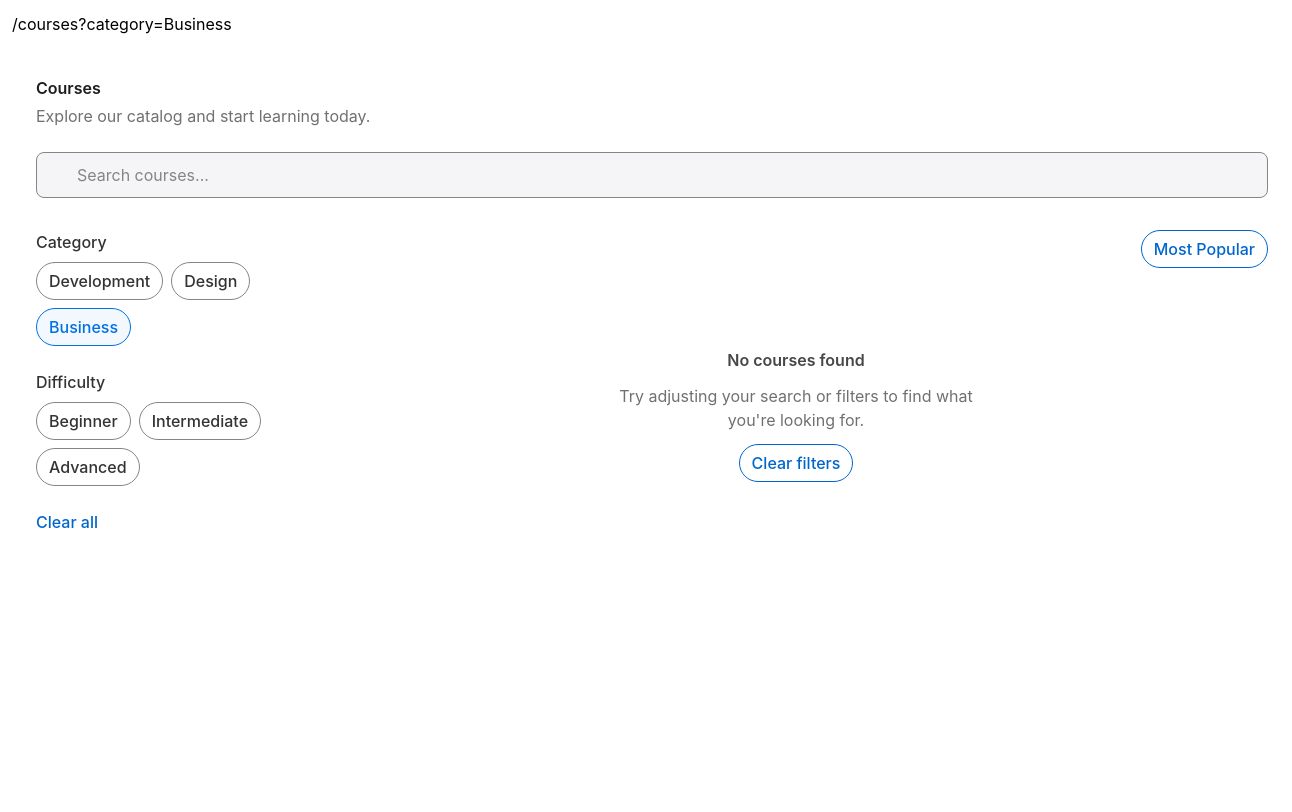
it: courses integration › shows EmptyState for a filter combo and Clear filters resets the URL + results
The image size is (1292, 812).
expect the heading "No courses found" is shown: met, box [727, 348, 865, 372]
Click the button "Clear filters".
click(796, 463)  # box [739, 444, 853, 482]
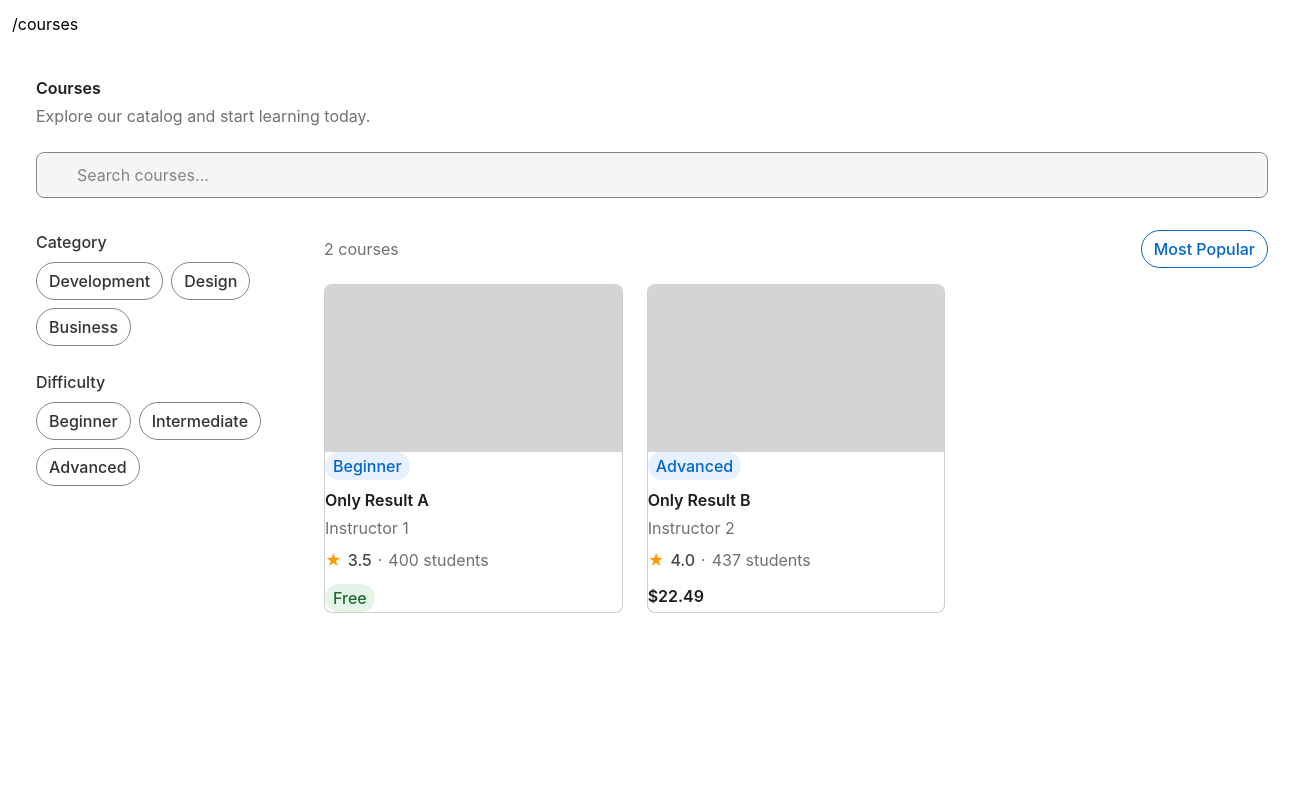
expect the text with test id "location" reads "/courses": met, box [12, 14, 78, 34]
expect the text "2 courses" is shown: met, box [324, 237, 399, 261]
